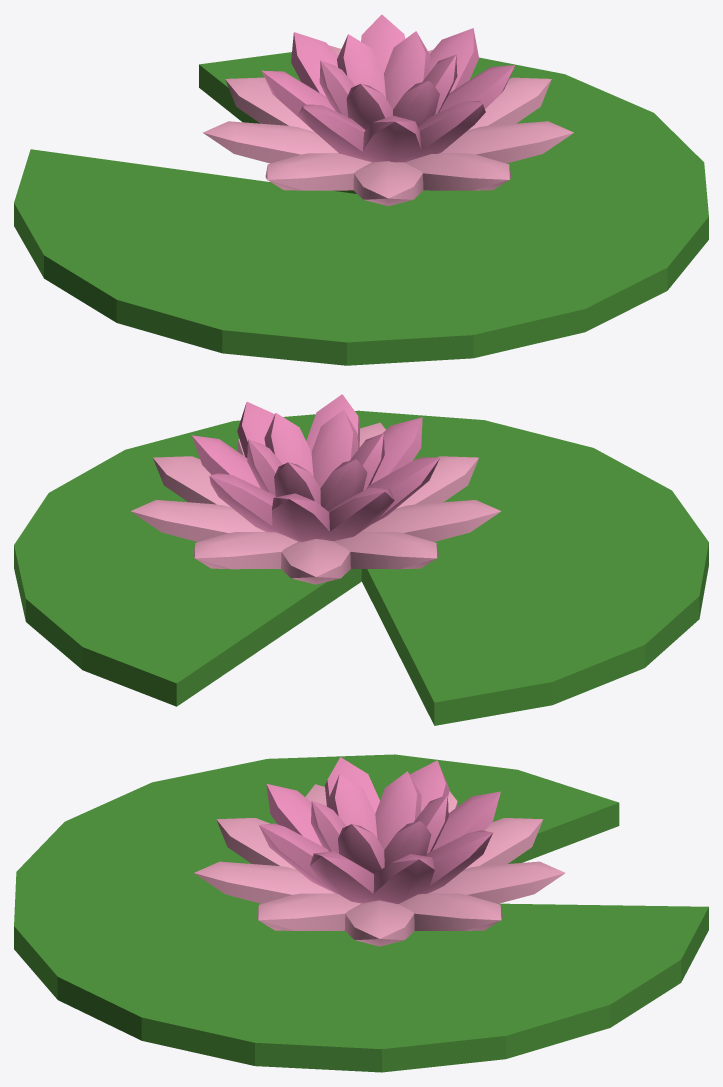
The model's file is Pixor_water-lily.glb.
3 views of the same model, one above another, from view 1: azimuth 30°, elevation 25°; view 2: azimuth 150°, elevation 25°; view 3: azimuth 270°, elevation 25° (orthographic).
Parts seen in each view (by area): view 1: Water lily pad, Water lily flower; view 2: Water lily pad, Water lily flower; view 3: Water lily pad, Water lily flower.
Boxes of the visible parts, x1,y1,x2,y2 form: Water lily pad: (14,48,708,365); Water lily flower: (203,14,573,206); Water lily pad: (14,410,708,725); Water lily flower: (130,394,501,584); Water lily pad: (14,754,708,1072); Water lily flower: (194,757,565,946).
Bounding box in the file's own units: 0.6775 × 0.1552 × 0.6752.
